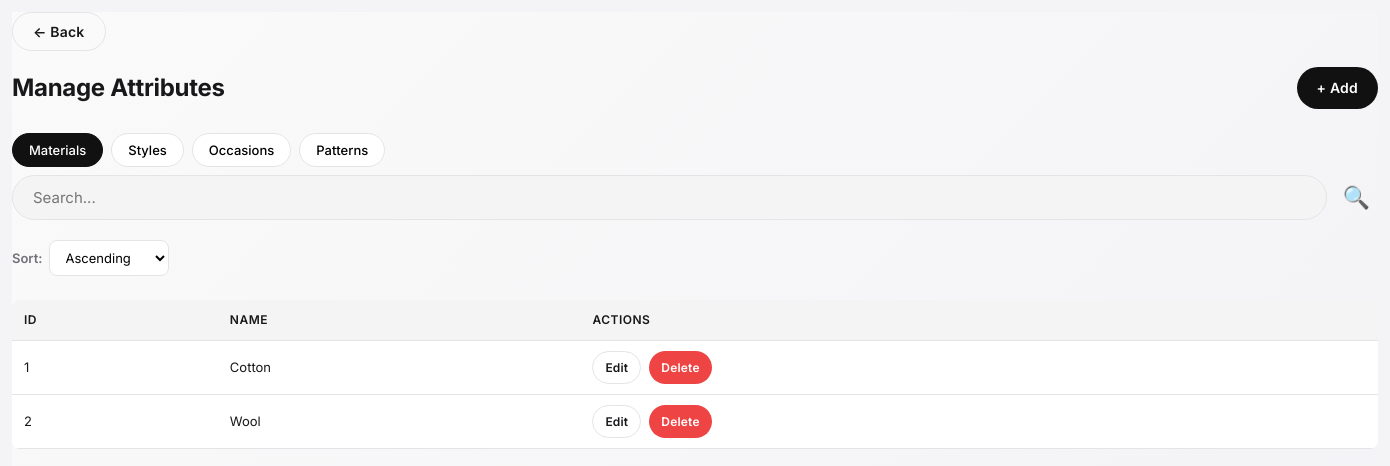
AdminAttributes › Tabs › should switch to occasions tab
Click the button "Occasions" at (242, 150), box [192,133,291,167]
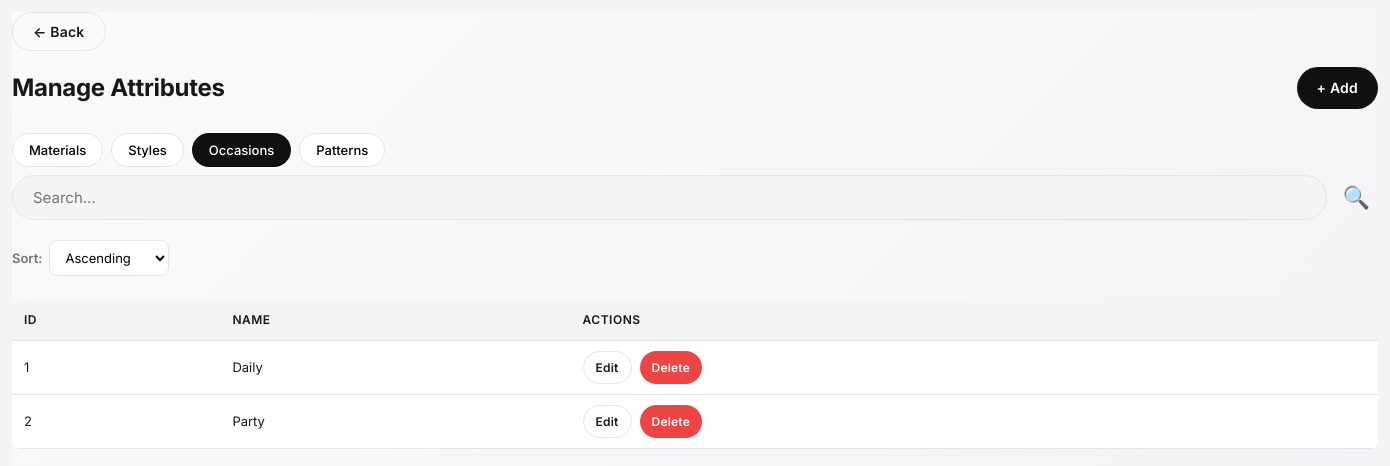
Expected: the link "Daily" is shown, [232,359,263,375]
Expected: the link "Party" is shown, [232,413,265,429]
